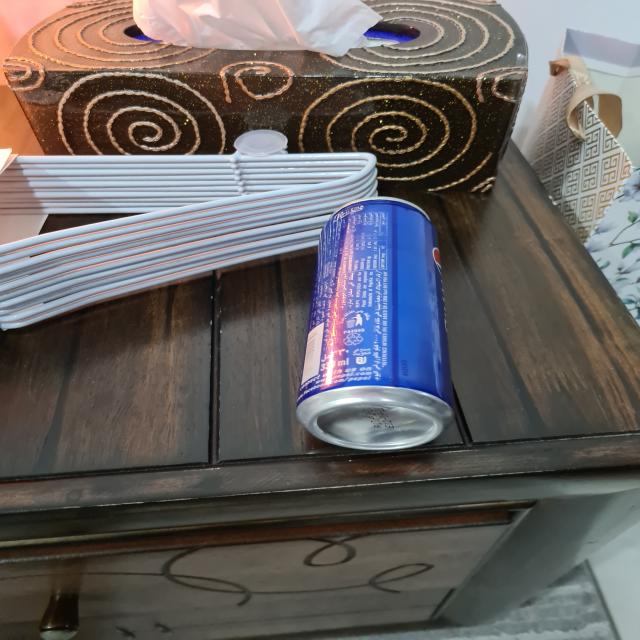non-organic waste: (295, 196, 453, 451)
